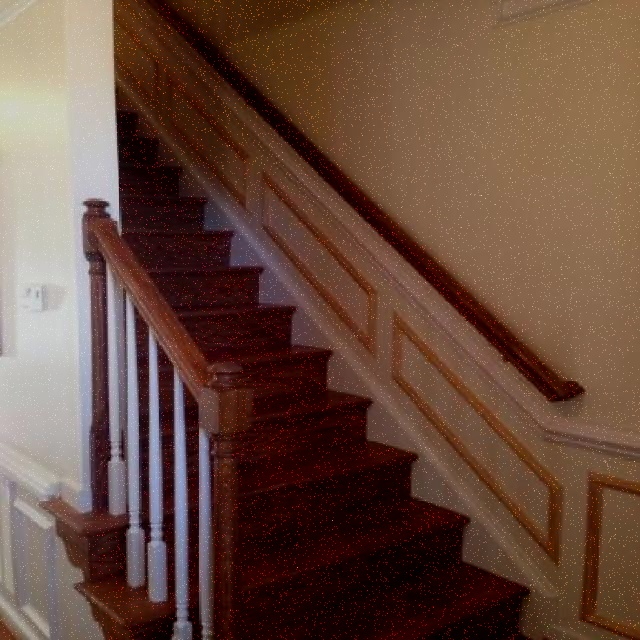stair: (40, 87, 534, 640)
